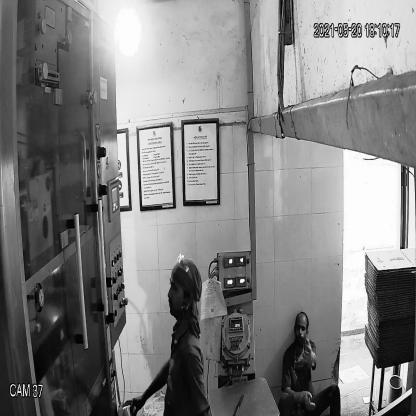no_goggles: (164, 276, 194, 301), (292, 320, 310, 338)
